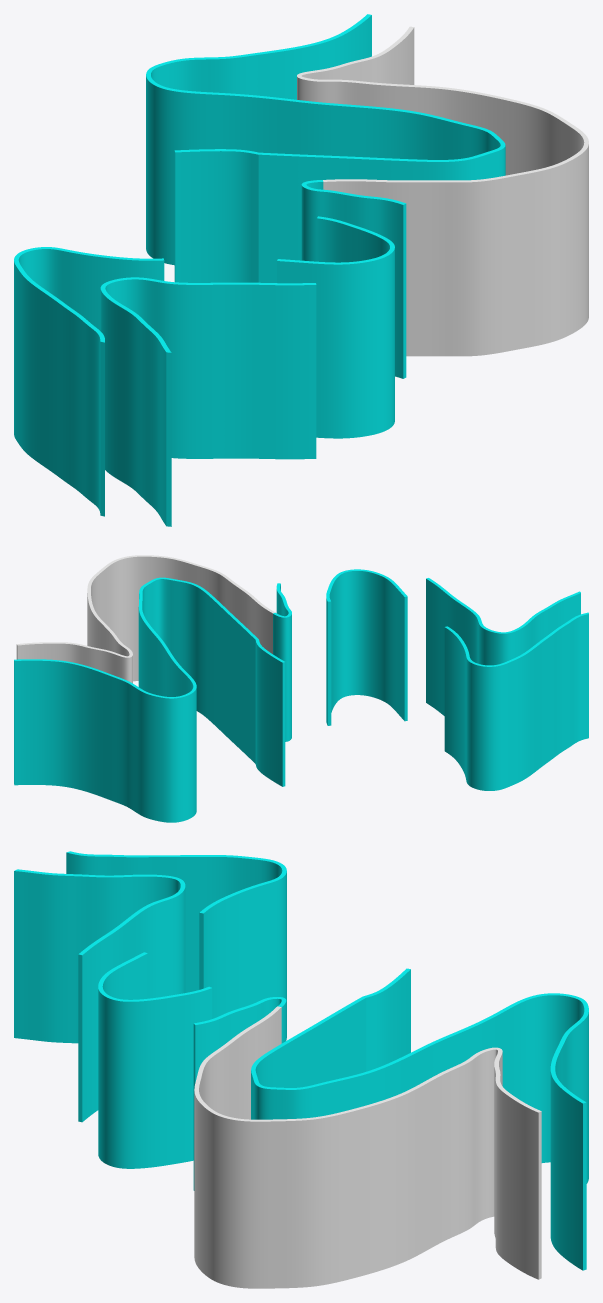
The picture shows the model from 3 angles, top to bottom: view 1: azimuth 30°, elevation 25°; view 2: azimuth 150°, elevation 25°; view 3: azimuth 270°, elevation 25°; orthographic projection. The views are drawn at different scales.
Visible parts, largest first — view 1: Asset3DLoader.sceneRoot; view 2: Asset3DLoader.sceneRoot; view 3: Asset3DLoader.sceneRoot.
Boxes of the visible parts, x1=… form: Asset3DLoader.sceneRoot: x1=14, y1=14, x2=588, y2=526; Asset3DLoader.sceneRoot: x1=14, y1=555, x2=588, y2=822; Asset3DLoader.sceneRoot: x1=14, y1=851, x2=588, y2=1288.
Size of the model in its own units: 694 by 200 by 624.
